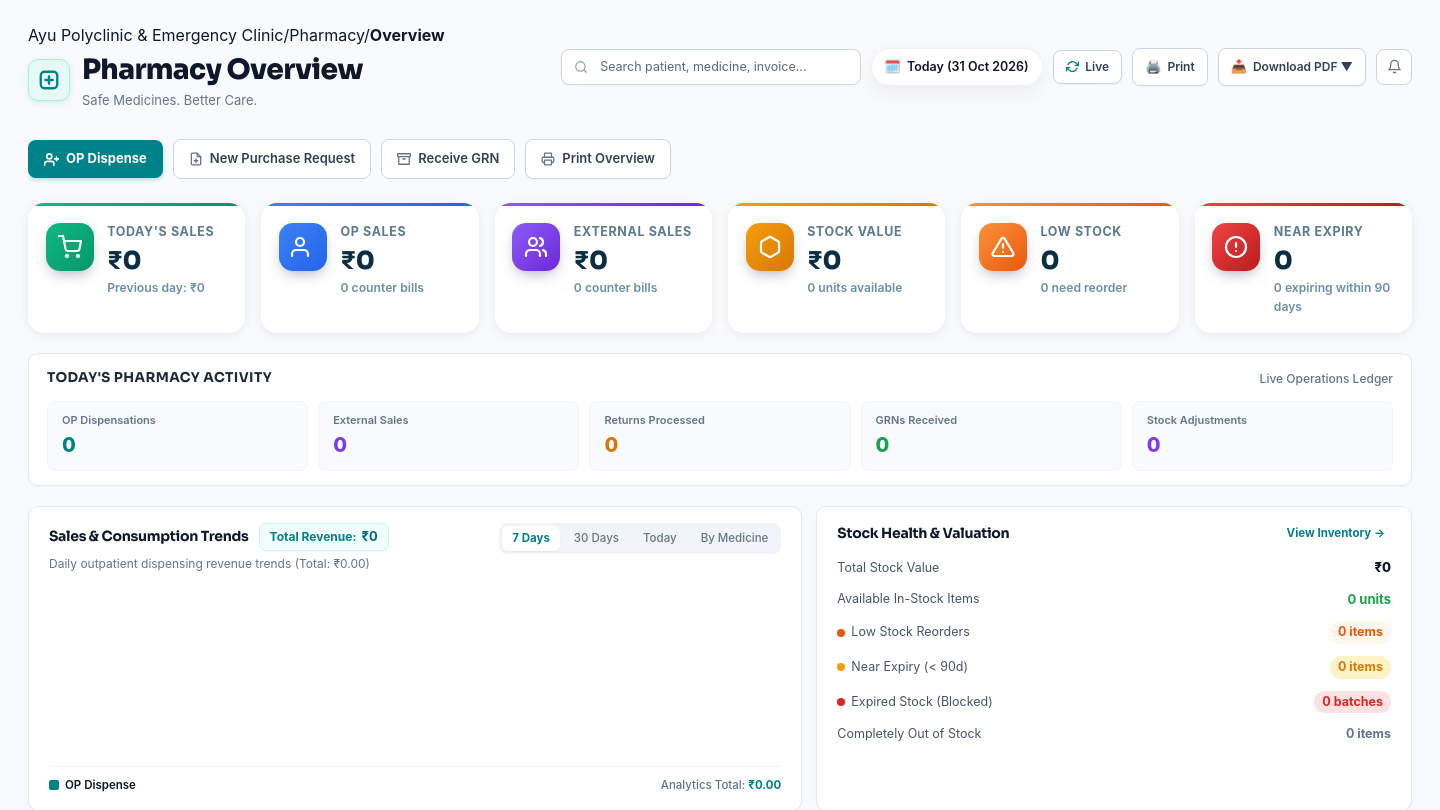
Test: Pharmacy Module Architecture › accurately reflects low stock and near expiry & expired counts and drilldowns
Check: the text "Low Stock" is shown, box [1040,223,1127,242]
Check: the text "Near Expiry" is shown, box [1274,224,1364,239]
# Click Low Stock KPI card to open drilldown modal
Click the button "Low Stock 0 0 need reorder" at [1070, 268], box [961,203,1179,334]
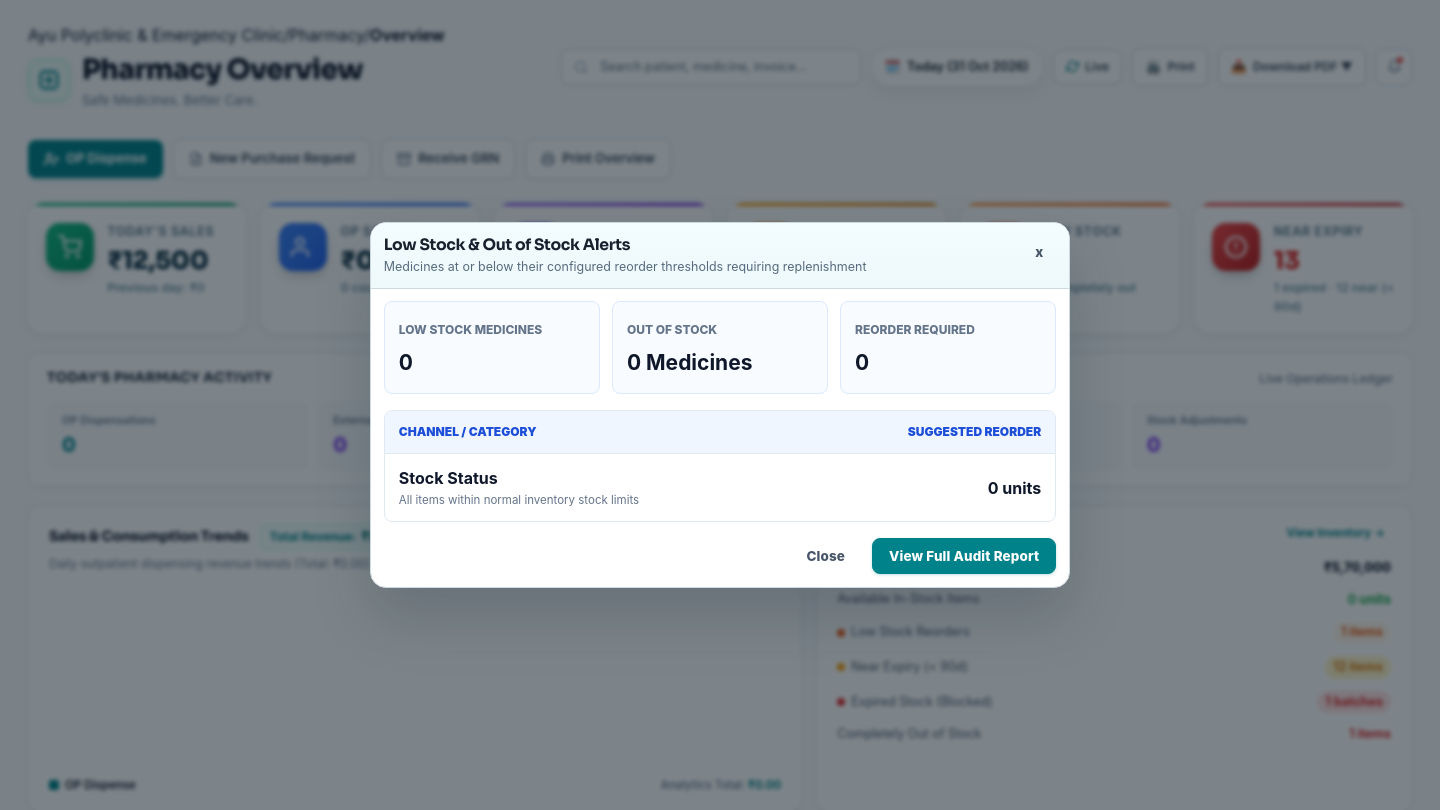
Check: the heading "Low Stock & Out of Stock Alerts" is shown, box [384,235,630,255]
Check: the text "LOW STOCK MEDICINES" is shown, box [399,322,542,337]
